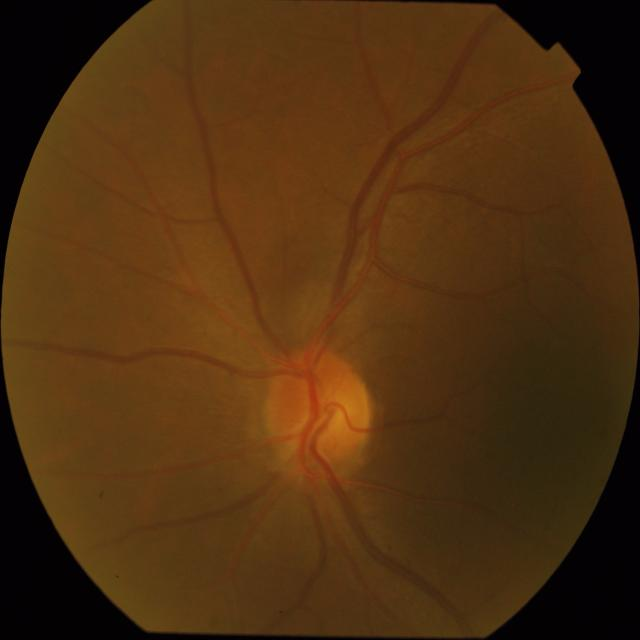OC: (300, 392, 348, 458)
OD: (264, 348, 370, 477)
